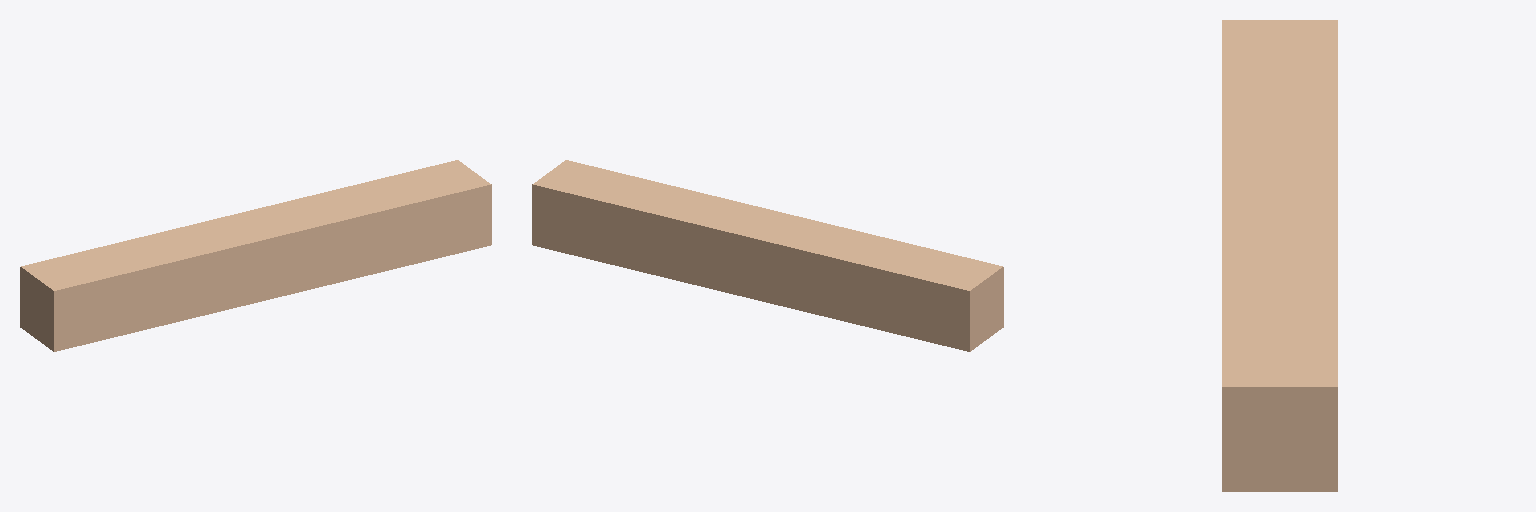
robot.urdf — hook:
<?xml version="0.0" ?>
<robot name="hook">
  <link name="handle_bar">
    <contact>
      <lateral_friction value="1"/>
      <rolling_friction value="0.0"/>
      <contact_cfm value="0.0"/>
      <contact_erp value="1.0"/>
    </contact>
    <inertial>
      <origin rpy="0 0 0" xyz="0 0 0"/>
       <mass value=".05"/>
       <inertia ixx="0.0001" ixy="0" ixz="0" iyy="0.0001" iyz="0" izz="0.0001"/>
    </inertial>


    <visual>
      <origin rpy="0 0 0" xyz="0.0 0.0 0.0"/>
      <geometry>
        <box size="0.1 0.04 0.04"/>
      </geometry>
      <material name="long_bar_texture">
        <color rgba="0.9297 0.7930 0.6758 1" />
      </material>
    </visual>
    <collision>
      <origin rpy="0 0 0" xyz="0.0 0.0 0.0"/>
      <geometry>
        <box size="0.1 0.04 0.04"/>
      </geometry>
    </collision>
  </link>

  <joint name="hook_joint1" type="fixed">
    <!-- <safety_controller k_position="100.0" k_velocity="40.0" soft_lower_limit="-1.7628" soft_upper_limit="1.7628"/> -->
    <origin rpy="0 0 0" xyz="0.15 0.0 0.0"/>
    <parent link="handle_bar"/>
    <child link="long_bar"/>
  </joint>



  <link name="long_bar">
    <contact>
      <lateral_friction value="1"/>
      <rolling_friction value="0.0"/>
      <contact_cfm value="0.0"/>
      <contact_erp value="1.0"/>
    </contact>
    <inertial>
      <origin rpy="0 0 0" xyz="0 0 0"/>
       <mass value=".05"/>
       <inertia ixx="0.0001" ixy="0" ixz="0" iyy="0.0001" iyz="0" izz="0.0001"/>
    </inertial>
    <visual>
      <origin rpy="0 0 0" xyz="0.0 0.0 0.0"/>
      <geometry>
        <box size="0.2 0.04 0.04"/>
      </geometry>
      <material name="long_bar_texture">
        <color rgba="0.9297 0.7930 0.6758 1" />
      </material>
    </visual>
    <collision>
      <origin rpy="0 0 0" xyz="0.0 0.0 0.0"/>
      <geometry>
        <box size="0.2 0.04 0.04"/>
      </geometry>
    </collision>
  </link>

 
</robot>

--- What the picture shows (computed from the rendered views, not written in the file) ---
The picture shows the robot from 3 angles, left to right: view 1: azimuth 30°, elevation 25°; view 2: azimuth 150°, elevation 25°; view 3: azimuth 270°, elevation 25°; orthographic projection.
Robot: hook — 2 links, 1 joints (1 fixed); root link handle_bar; default pose: all joints at 0.
Links seen in each view (by area): view 1: long_bar, handle_bar; view 2: long_bar, handle_bar; view 3: long_bar, handle_bar.
Boxes of the visible links, left/top/right/bottom form: long_bar: left=167, top=160, right=491, bottom=315; handle_bar: left=20, top=231, right=199, bottom=351; long_bar: left=532, top=160, right=856, bottom=315; handle_bar: left=824, top=231, right=1003, bottom=351; long_bar: left=1222, top=143, right=1337, bottom=491; handle_bar: left=1222, top=20, right=1337, bottom=142.
Size in the robot's own frame: 0.3 by 0.04 by 0.04 metres.
Geometry: primitives only (box / cylinder / sphere), no mesh files.